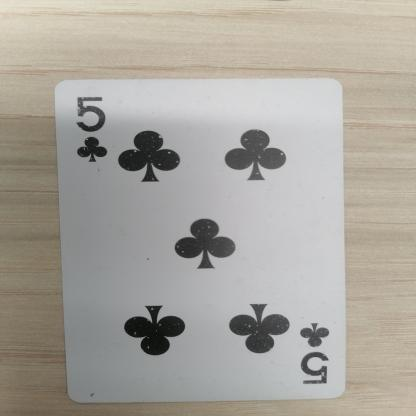5C: (68, 93, 116, 170), (295, 308, 337, 396)
